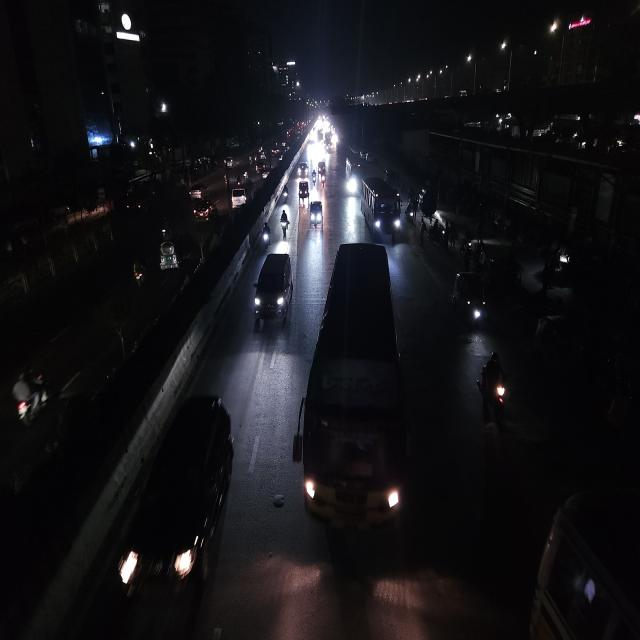bus: (300, 238, 408, 548), (359, 173, 403, 243), (344, 156, 363, 200)
car: (116, 387, 236, 637), (252, 249, 294, 333), (193, 197, 217, 224), (230, 183, 248, 211), (187, 182, 207, 200), (297, 160, 309, 180), (257, 163, 270, 179)
cng: (450, 268, 488, 339), (158, 235, 179, 276), (308, 197, 324, 231)
motorcycle: (475, 348, 512, 432), (11, 361, 51, 434), (130, 244, 148, 295), (279, 207, 290, 240), (260, 220, 272, 250), (406, 198, 414, 226), (282, 181, 290, 204), (310, 167, 318, 186), (242, 167, 250, 185)
truck: (297, 178, 310, 208)
